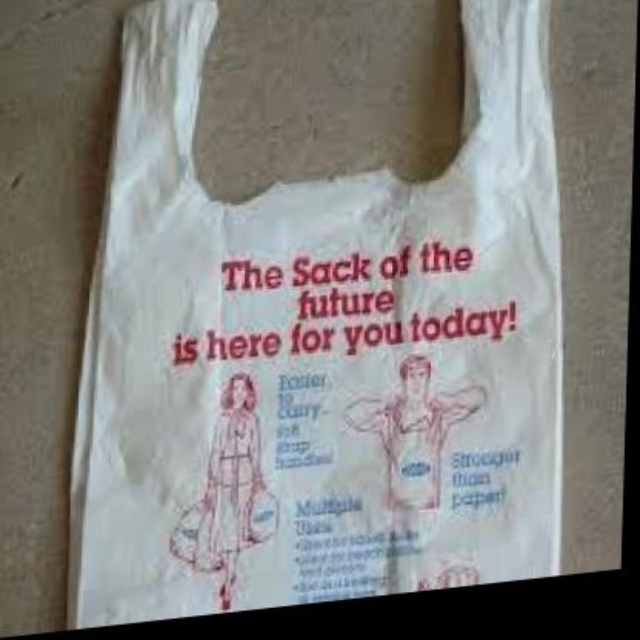trash: (72, 0, 562, 625)
